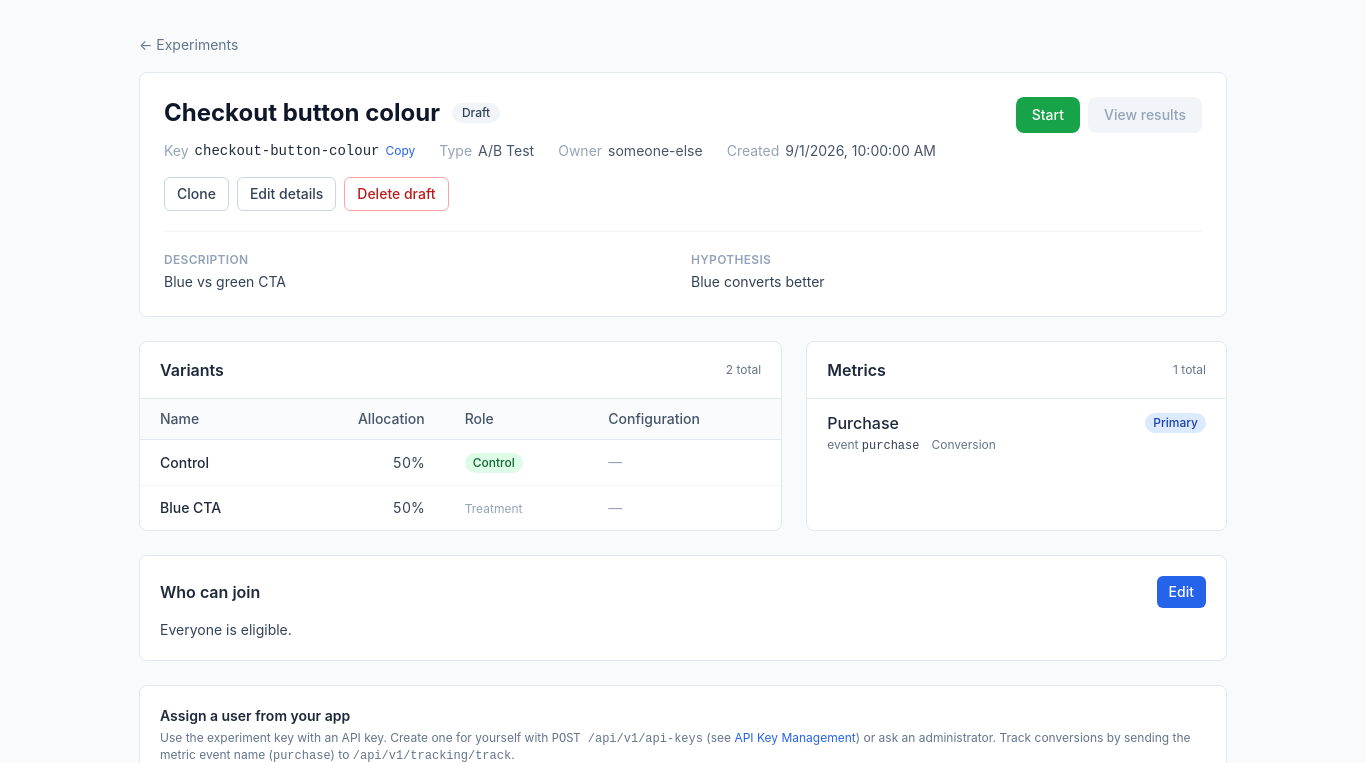
Test: Edit details › changing the name only sends exactly that
Click the button with test id "experiment-edit-details": point(287, 194) [237, 177, 336, 211]
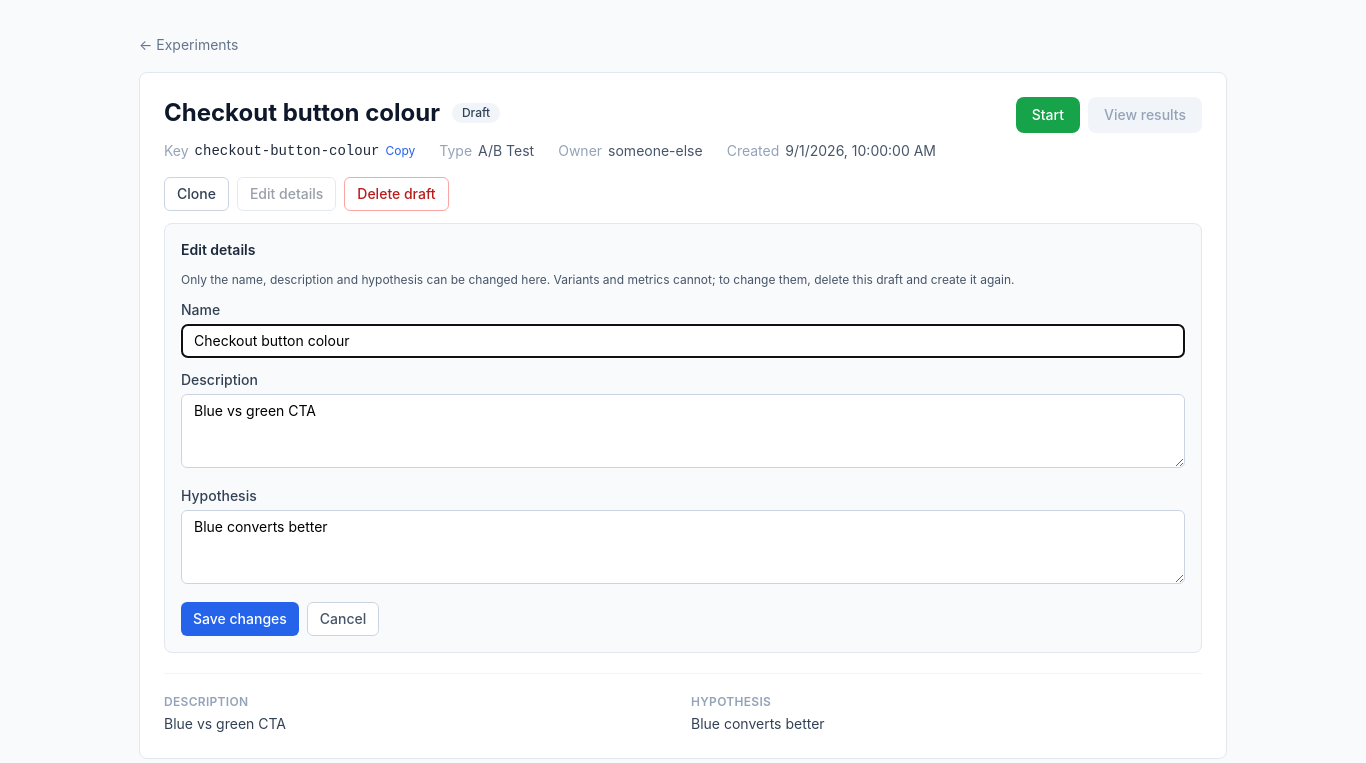
Replace the text in the field with test id "manage-edit-name" with "Checkout CTA": point(683, 341) [181, 324, 1185, 358]
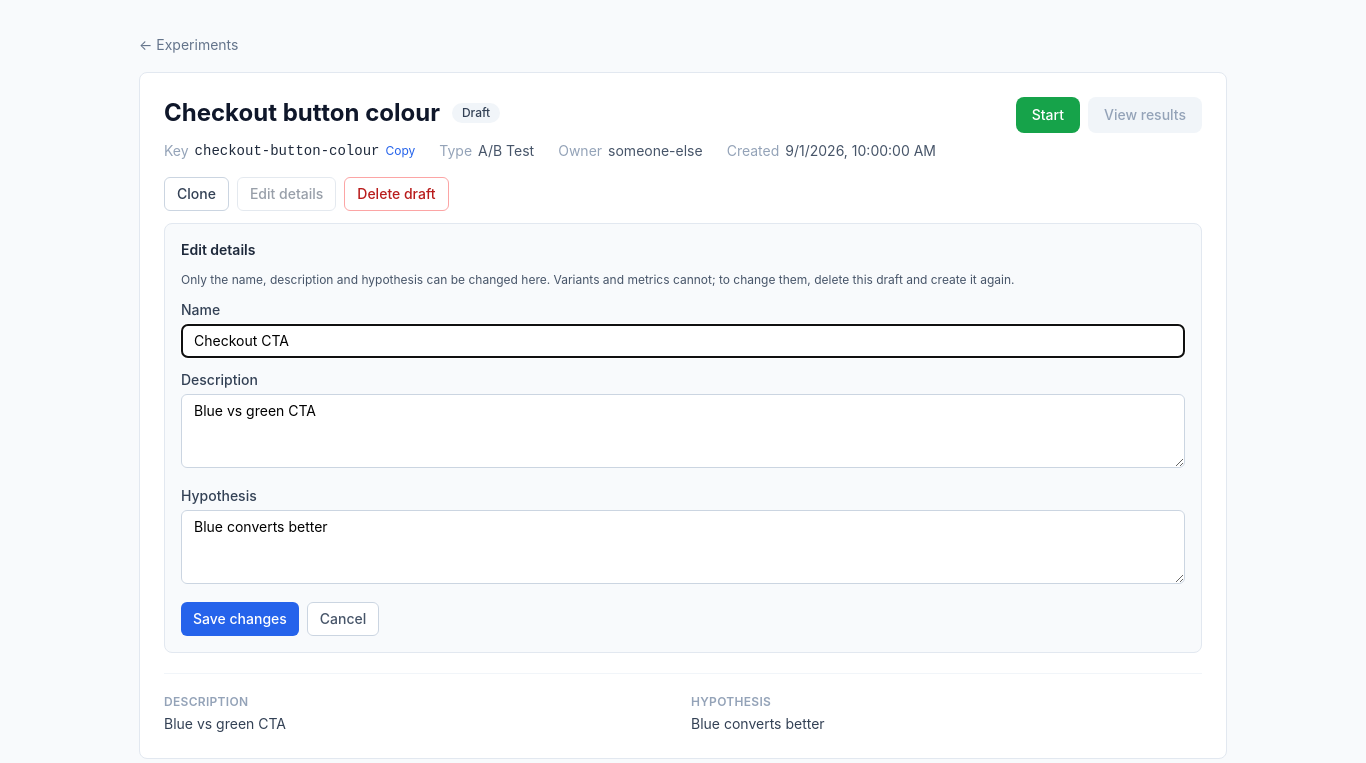
Click the button with test id "manage-edit-save": point(240, 619) [181, 602, 299, 636]
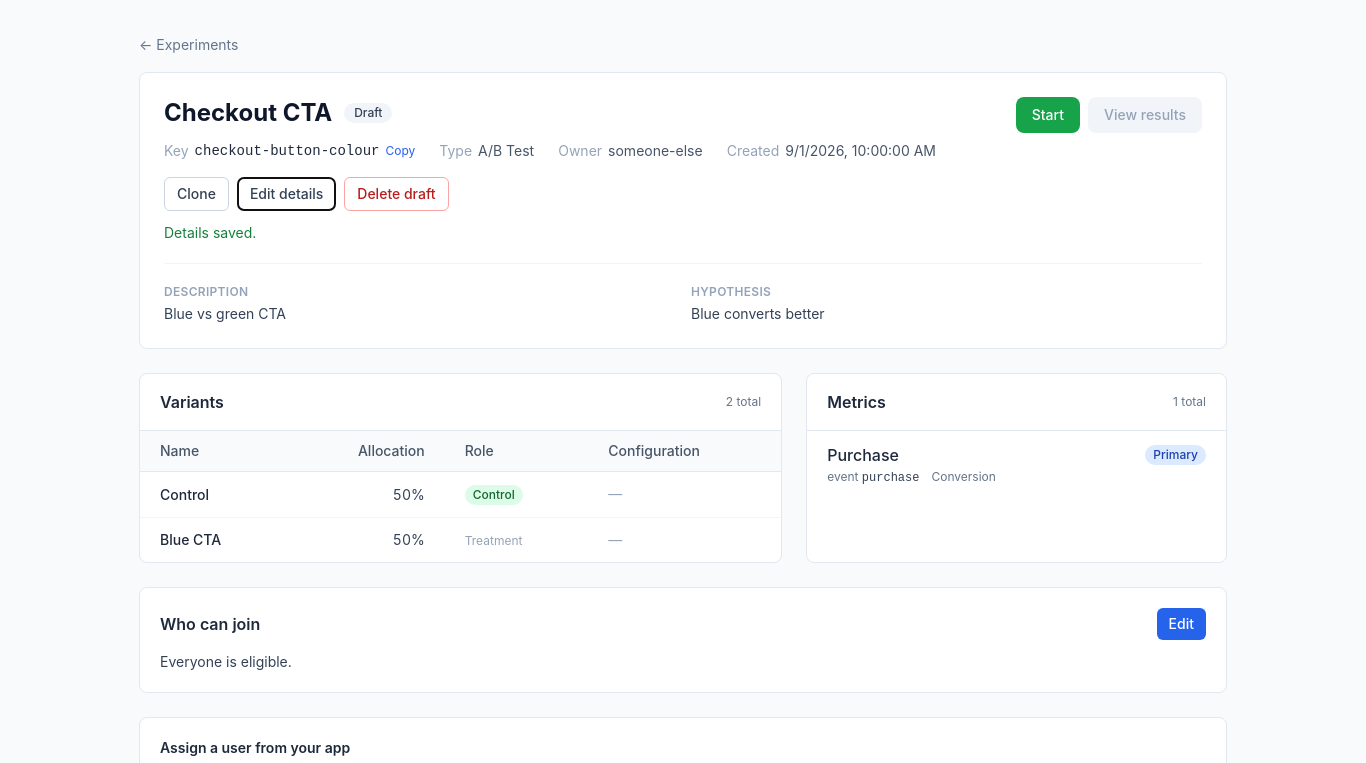
Expected: the message "Details saved." is shown, [164, 224, 256, 241]
